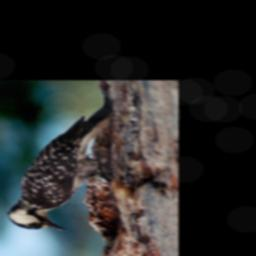Woodpecker: (0, 96, 121, 234)
